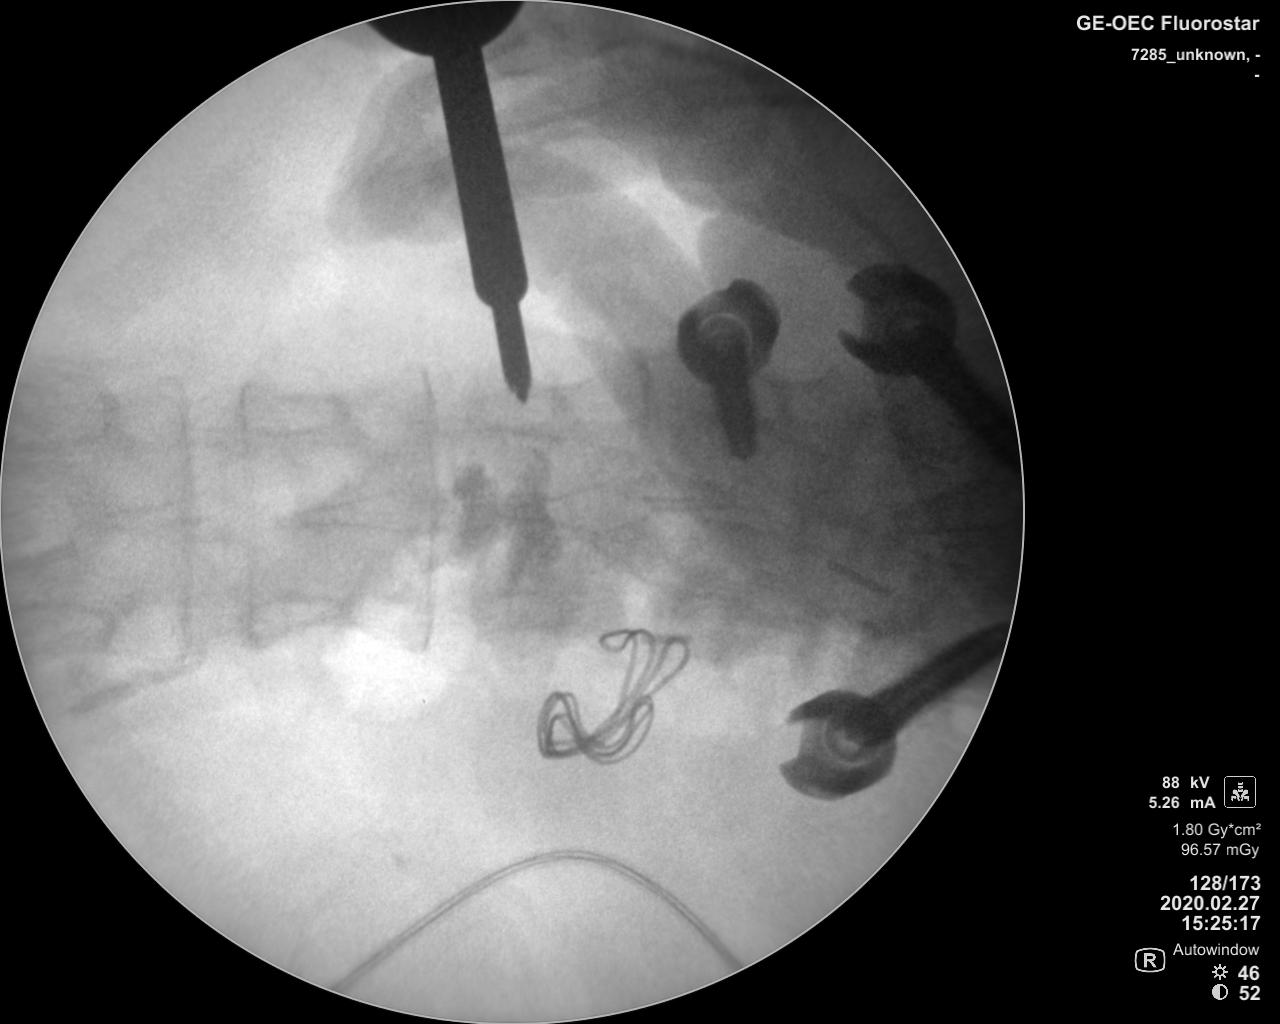eyes: (15, 376, 116, 446), (10, 600, 118, 658), (236, 390, 353, 434), (469, 590, 564, 638), (245, 592, 341, 638), (475, 386, 559, 435)
line: (230, 375, 264, 646), (411, 360, 440, 665), (167, 376, 196, 662)
nose: (281, 485, 449, 541), (505, 482, 657, 532), (97, 492, 230, 546)
